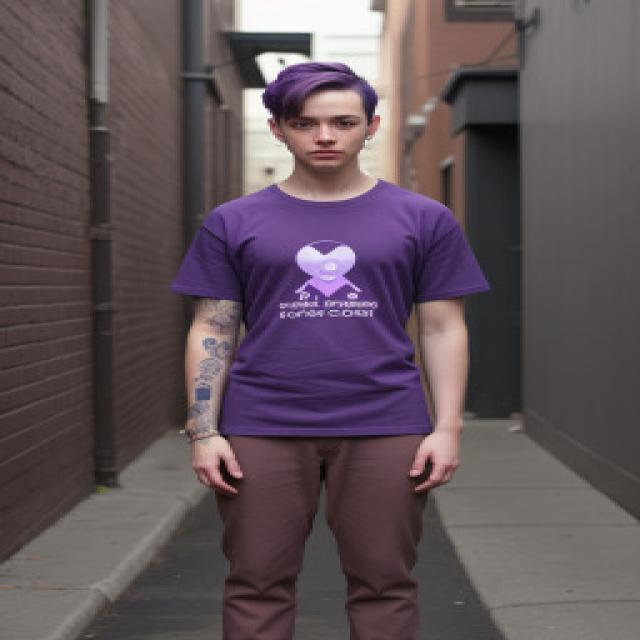Ai human 2: (164, 50, 498, 640)
